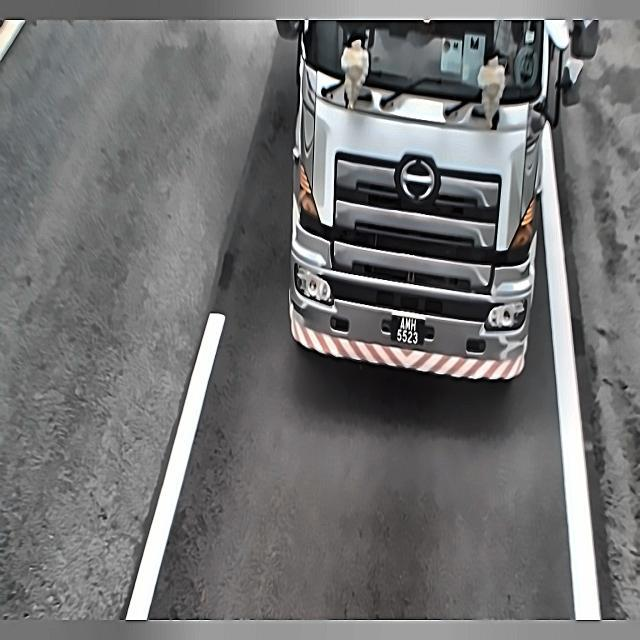car: (386, 308, 428, 353)
